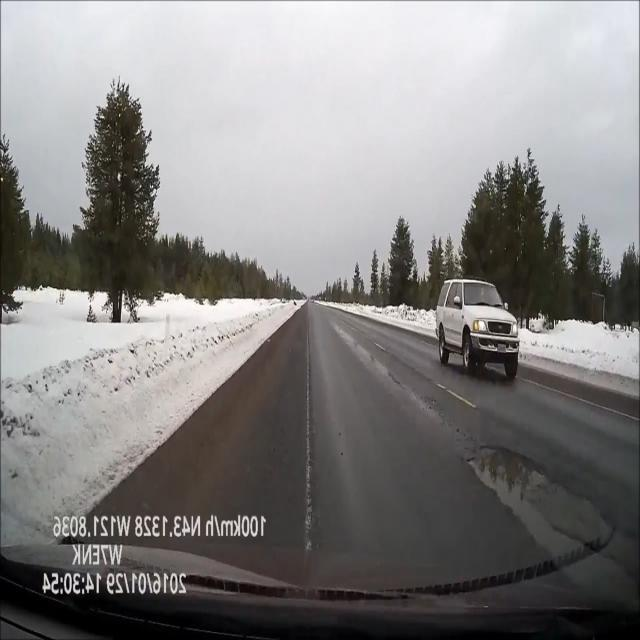pothole: (457, 433, 563, 546)
